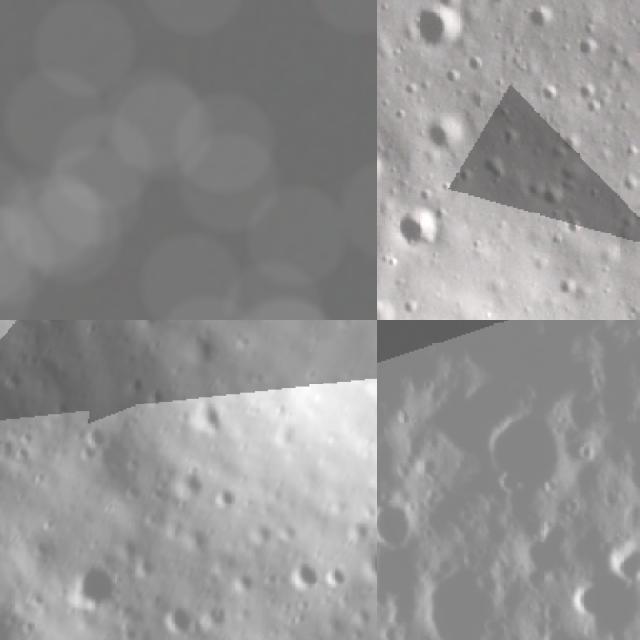crater: (402, 548, 516, 640), (406, 0, 479, 64), (595, 530, 640, 599), (377, 494, 422, 555), (68, 559, 122, 608), (560, 580, 614, 626), (388, 208, 444, 252), (417, 112, 469, 152), (189, 391, 228, 434), (288, 552, 323, 592), (172, 467, 210, 503), (164, 600, 195, 636), (524, 2, 558, 34), (572, 37, 601, 69), (214, 479, 242, 508), (323, 559, 351, 586), (361, 538, 377, 582), (86, 420, 113, 445), (12, 442, 39, 466), (377, 295, 399, 320), (0, 429, 17, 455), (377, 157, 385, 194)
